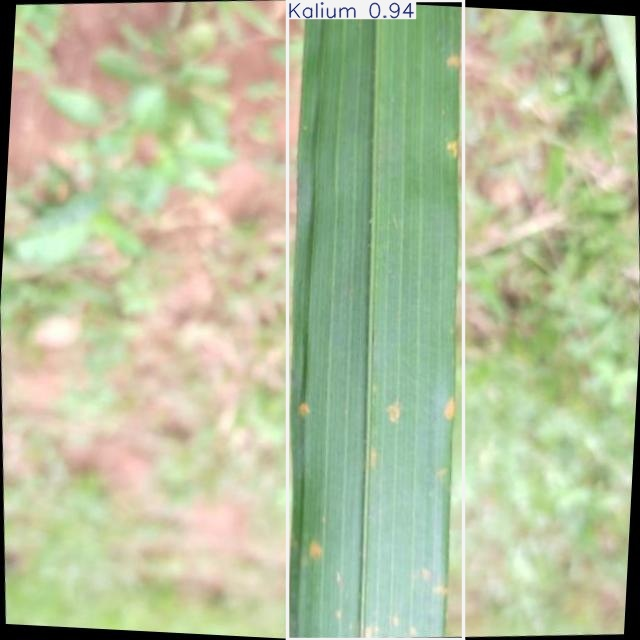Kalium: (287, 0, 463, 640)
